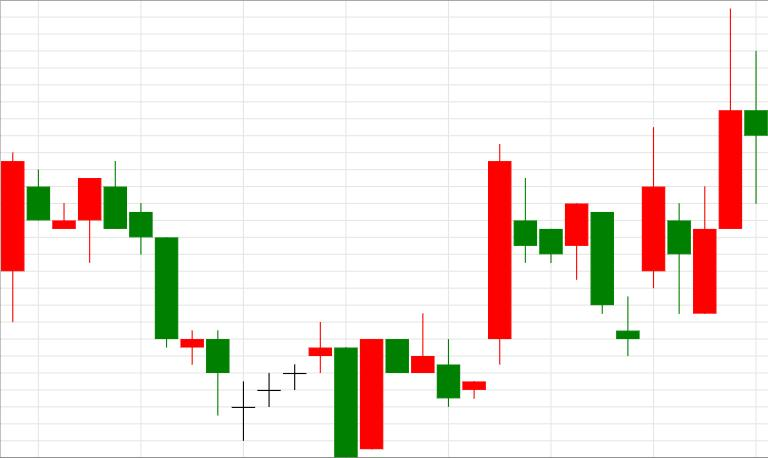morning_star_rise: (514, 128, 665, 356)
